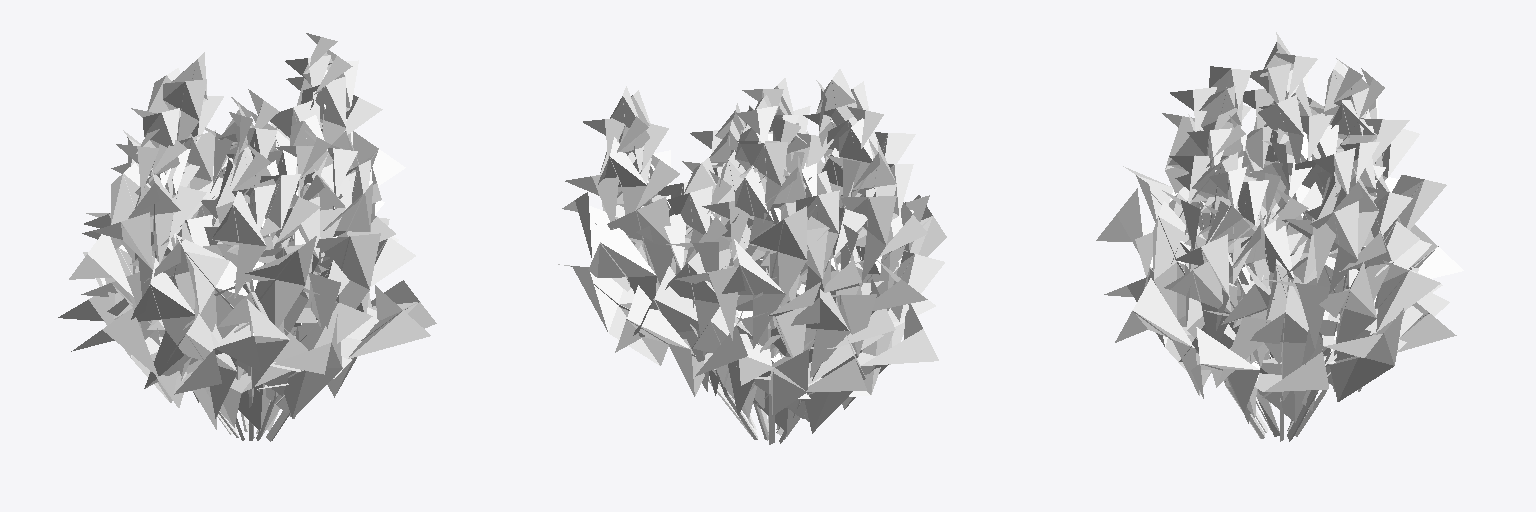
File: Mediterranean_Buckthorn_Model_0.obj
3 views of the same model, side by side, from view 1: azimuth 30°, elevation 25°; view 2: azimuth 150°, elevation 25°; view 3: azimuth 270°, elevation 25° (orthographic).
Visible parts, largest first — view 1: Foliage, Bark; view 2: Foliage, Bark; view 3: Foliage, Bark.
Boxes of the visible parts, box(x1,y1,x2,y2) form: Foliage: box(58, 33, 436, 430); Bark: box(108, 59, 418, 441); Foliage: box(558, 69, 946, 433); Bark: box(571, 82, 932, 444); Foliage: box(1096, 32, 1463, 423); Bark: box(1126, 60, 1438, 441).
Bounding box in the file's own units: 3.11 × 3 × 2.79.